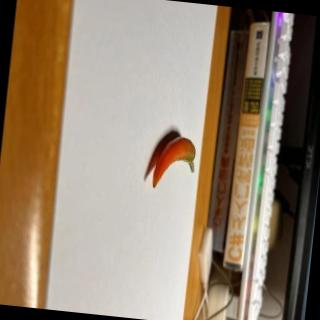Cabai Merah: (152, 134, 199, 193)
